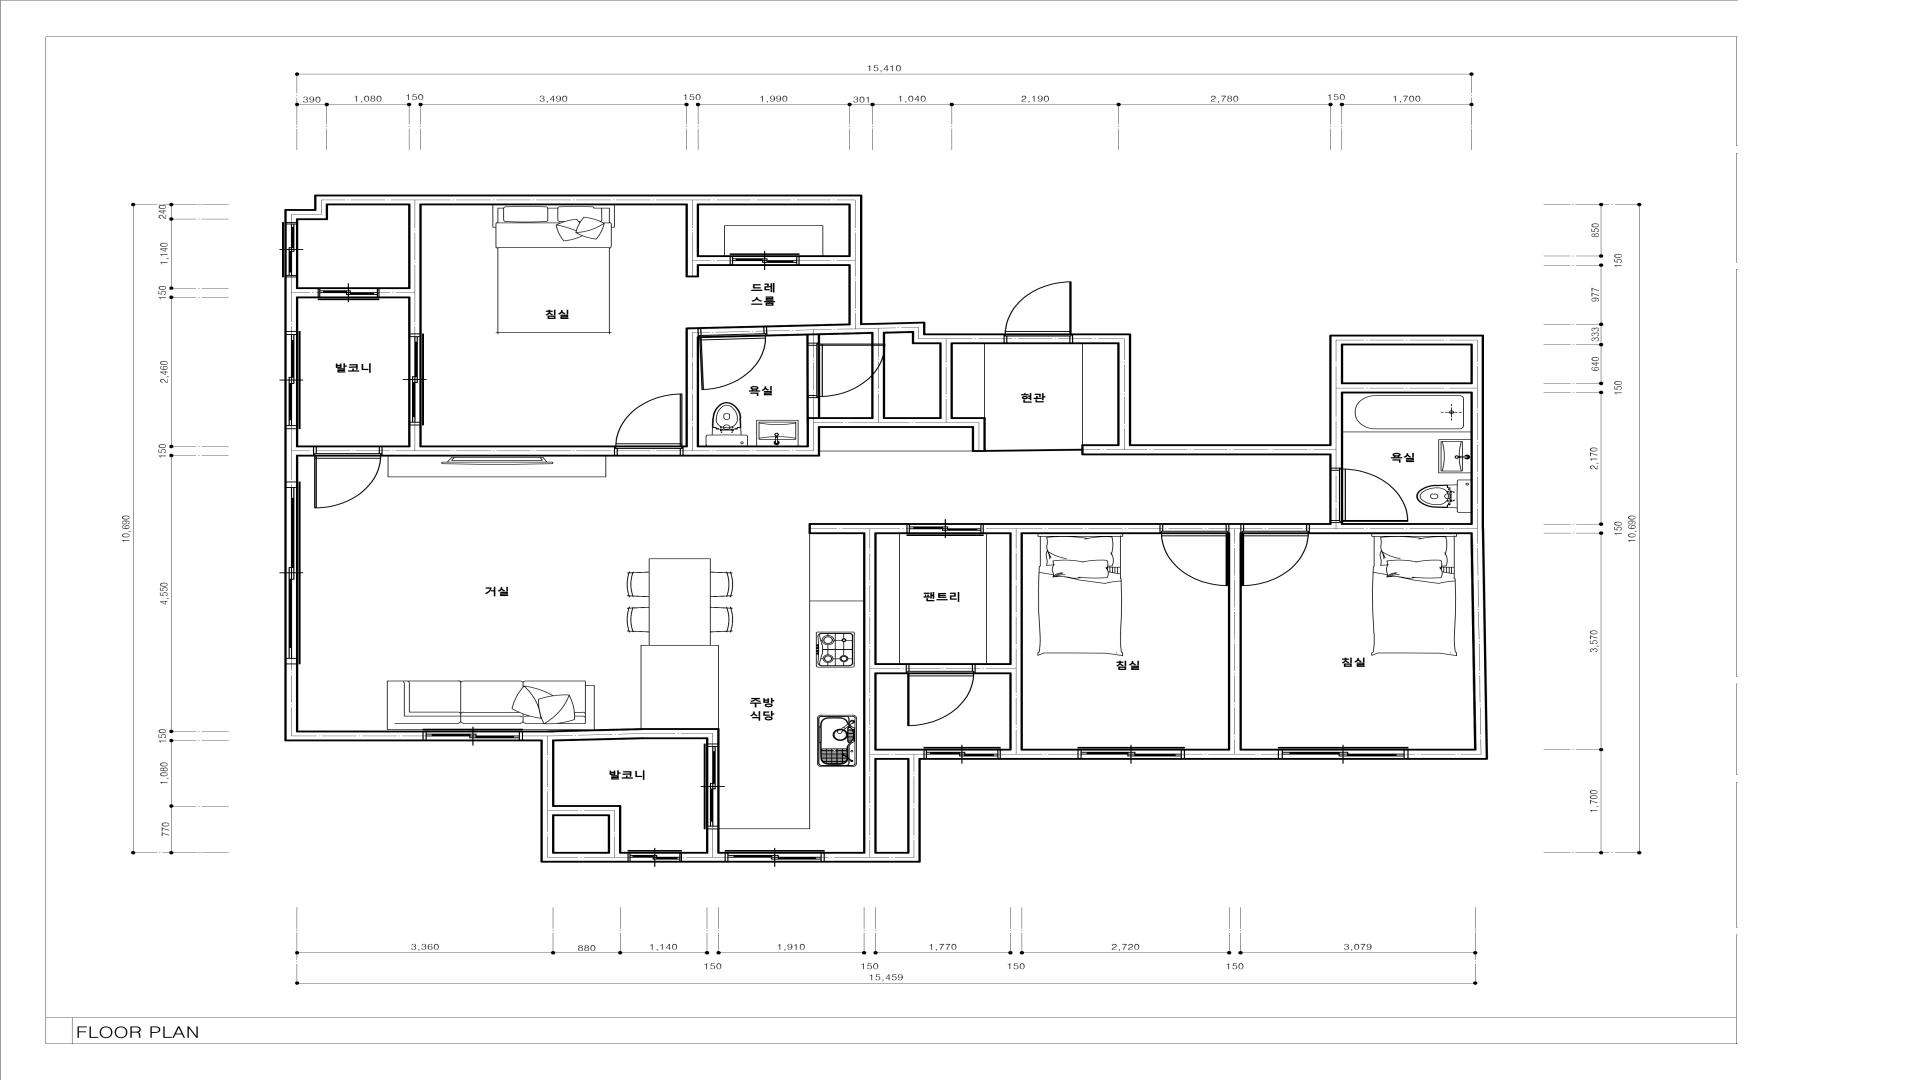door: (699, 326, 769, 390), (906, 663, 976, 727), (1329, 468, 1408, 524), (1159, 524, 1228, 587), (1004, 281, 1072, 344), (615, 393, 683, 456), (1241, 524, 1311, 585), (313, 446, 382, 508), (806, 343, 872, 398), (906, 524, 984, 537), (729, 253, 799, 266), (318, 287, 380, 301)
wall: (1470, 335, 1487, 760), (328, 194, 848, 206), (862, 534, 877, 852), (1226, 524, 1242, 749), (1009, 534, 1023, 749), (1081, 444, 1344, 455), (382, 446, 615, 456), (766, 322, 926, 336), (807, 417, 986, 429), (848, 194, 862, 323), (407, 206, 422, 334), (984, 524, 1159, 534), (1309, 524, 1472, 534), (1329, 335, 1344, 444), (686, 327, 699, 446), (541, 741, 554, 852), (284, 731, 422, 741), (1117, 344, 1131, 444), (1344, 382, 1470, 393), (1344, 335, 1470, 345), (683, 446, 807, 456), (907, 760, 920, 852), (870, 334, 885, 417), (554, 728, 641, 741), (911, 332, 1004, 344), (939, 344, 953, 417), (808, 524, 906, 534), (824, 852, 920, 862), (1185, 749, 1278, 760), (284, 665, 298, 731), (641, 728, 720, 740), (686, 206, 699, 277), (541, 852, 628, 862), (1001, 749, 1077, 760), (285, 277, 298, 331), (1408, 749, 1474, 760), (285, 429, 298, 481), (554, 804, 608, 816), (608, 804, 621, 852), (1072, 334, 1131, 344), (799, 256, 848, 266), (877, 749, 923, 760), (682, 852, 724, 862), (806, 427, 820, 456), (699, 255, 729, 266), (298, 208, 328, 220), (976, 663, 1009, 674), (972, 429, 986, 452), (705, 829, 720, 852), (524, 731, 554, 741), (877, 663, 906, 674), (380, 287, 407, 298), (407, 426, 422, 446), (807, 398, 820, 417), (314, 194, 328, 210), (298, 287, 318, 298), (1329, 455, 1344, 468), (285, 208, 298, 222), (298, 446, 314, 456), (806, 335, 820, 343), (705, 738, 720, 744)
window: (284, 481, 301, 665), (1278, 746, 1408, 760), (407, 334, 425, 426), (285, 331, 301, 429), (703, 744, 720, 829), (1077, 746, 1185, 760), (422, 729, 524, 741), (724, 851, 824, 862), (923, 746, 1001, 760), (282, 222, 298, 277), (628, 851, 682, 862)
